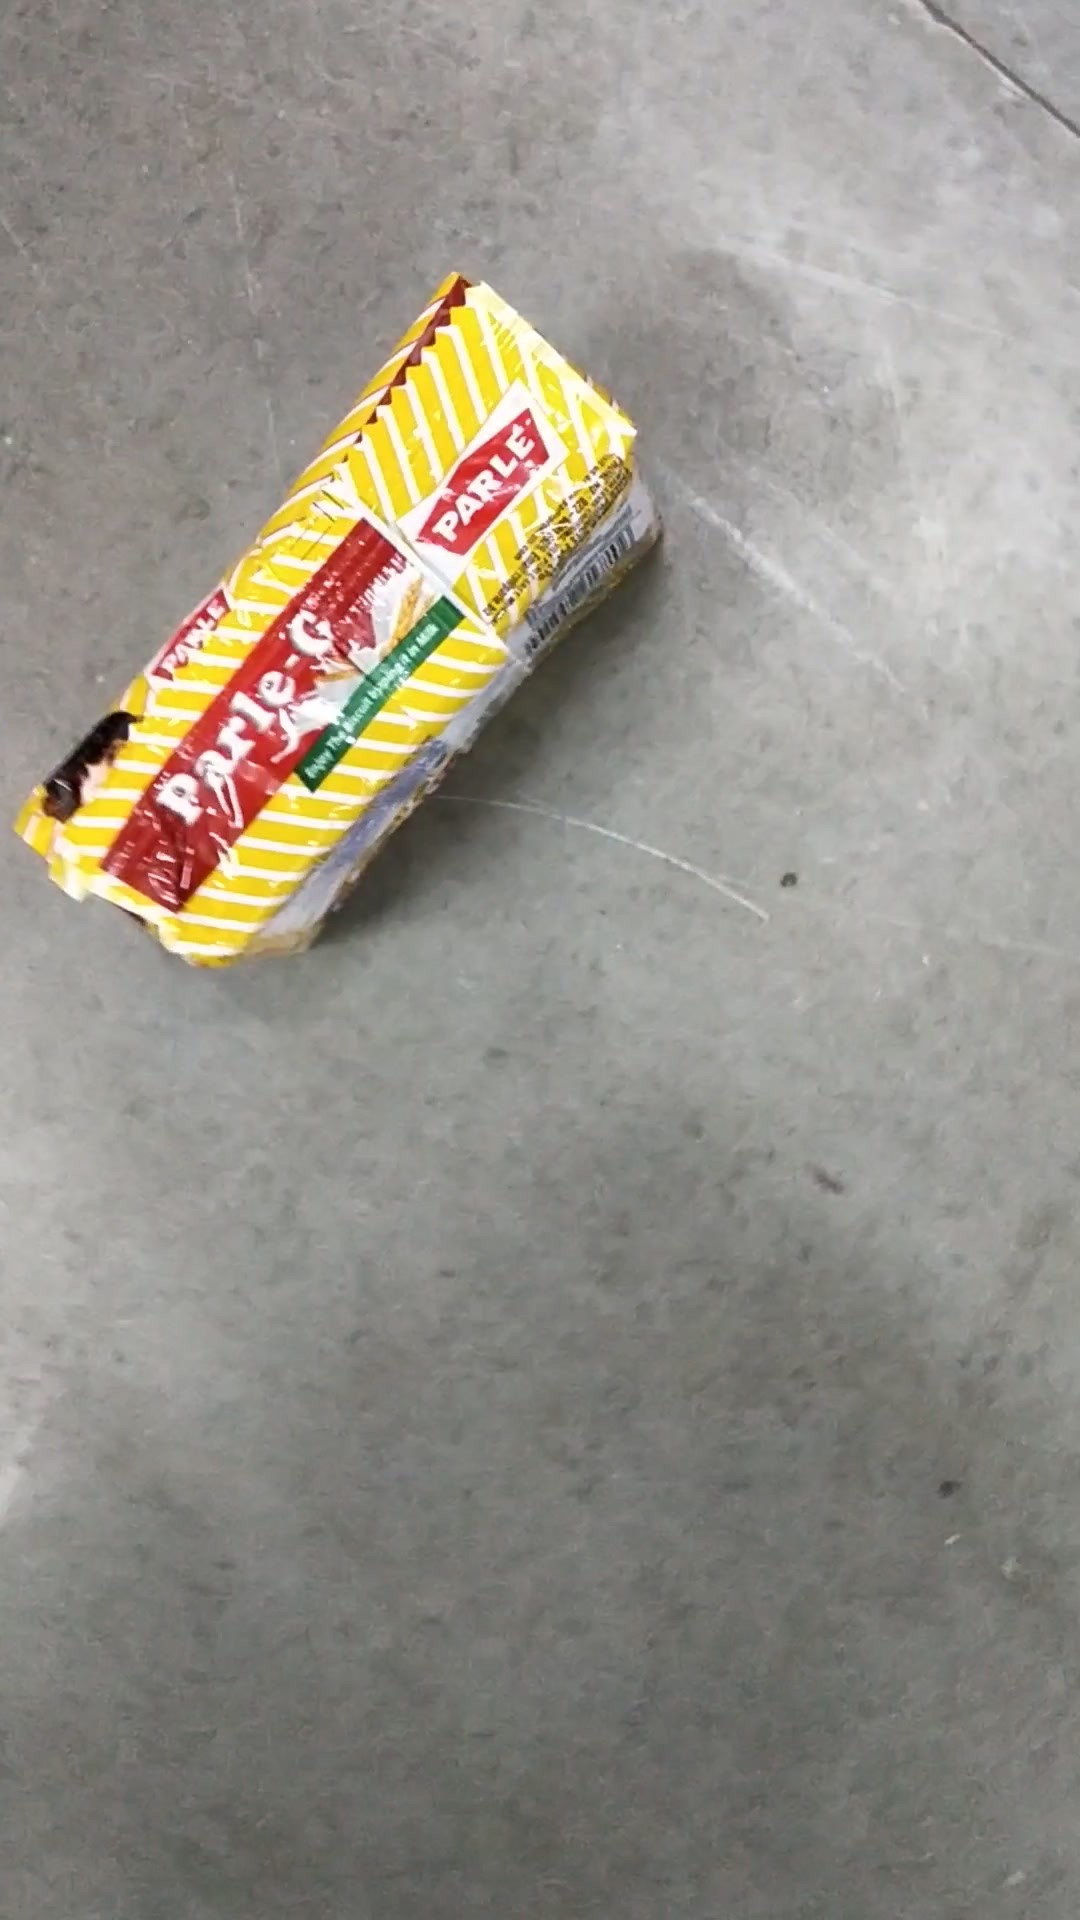parle-g: (115, 359, 578, 903)
